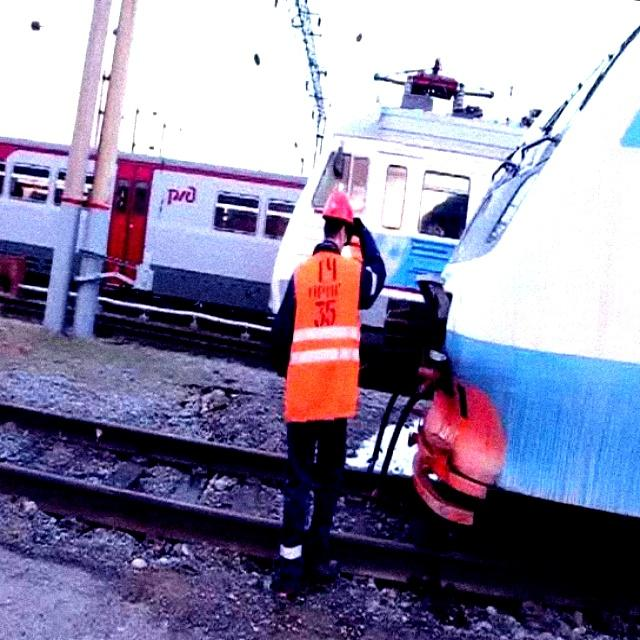helmet: (310, 196, 364, 230)
safety_vest: (285, 252, 370, 433)
